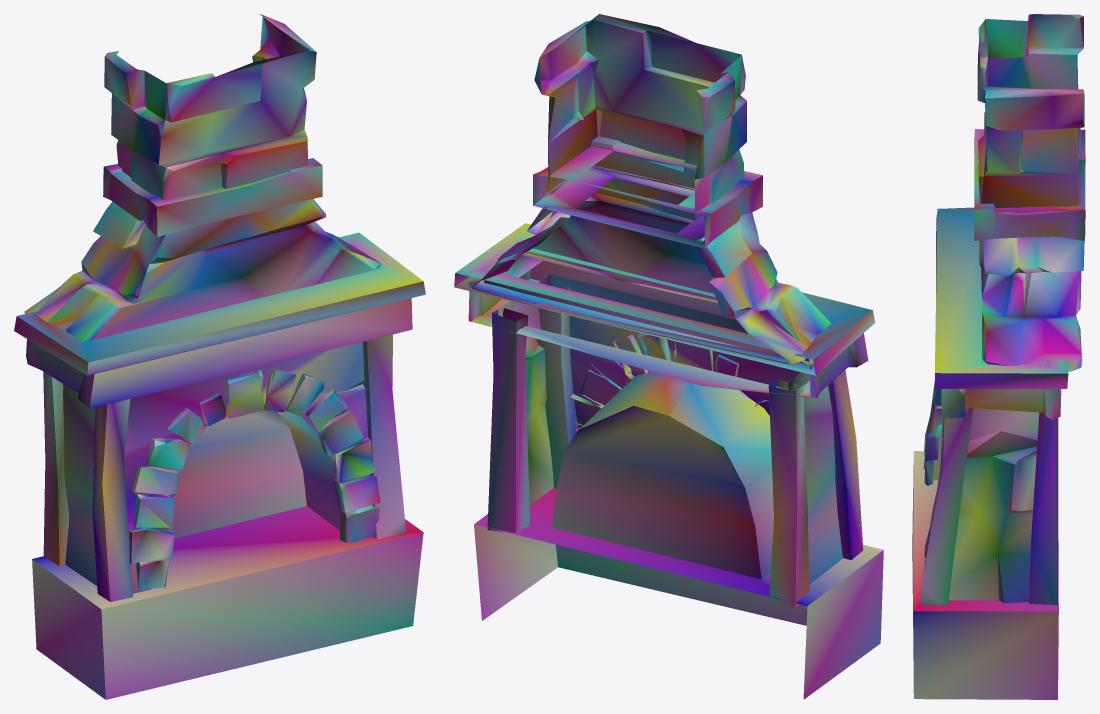
File: Chimney.fbx
3 views of the same model, side by side, from view 1: azimuth 30°, elevation 25°; view 2: azimuth 150°, elevation 25°; view 3: azimuth 270°, elevation 25° (orthographic). The views are drawn at different scales.
Parts seen in each view (by area): view 1: SM_Fireplace_fireplace_Fireplace_0; view 2: SM_Fireplace_fireplace_Fireplace_0; view 3: SM_Fireplace_fireplace_Fireplace_0.
Boxes of the visible parts, x1,y1,x2,y2 form: SM_Fireplace_fireplace_Fireplace_0: (14,14,425,699); SM_Fireplace_fireplace_Fireplace_0: (454,14,883,699); SM_Fireplace_fireplace_Fireplace_0: (912,14,1085,699).
Bounding box in the file's own units: 201 × 317 × 86.03.
